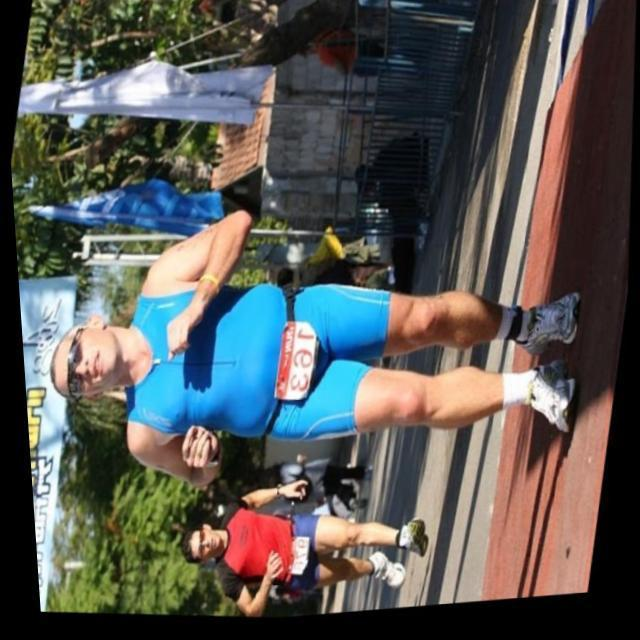dorsal: (266, 318, 330, 417), (286, 532, 319, 586)
